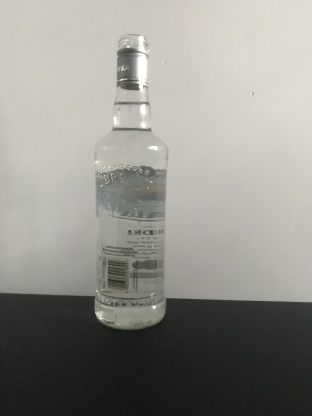nakretka: (114, 31, 151, 91)
